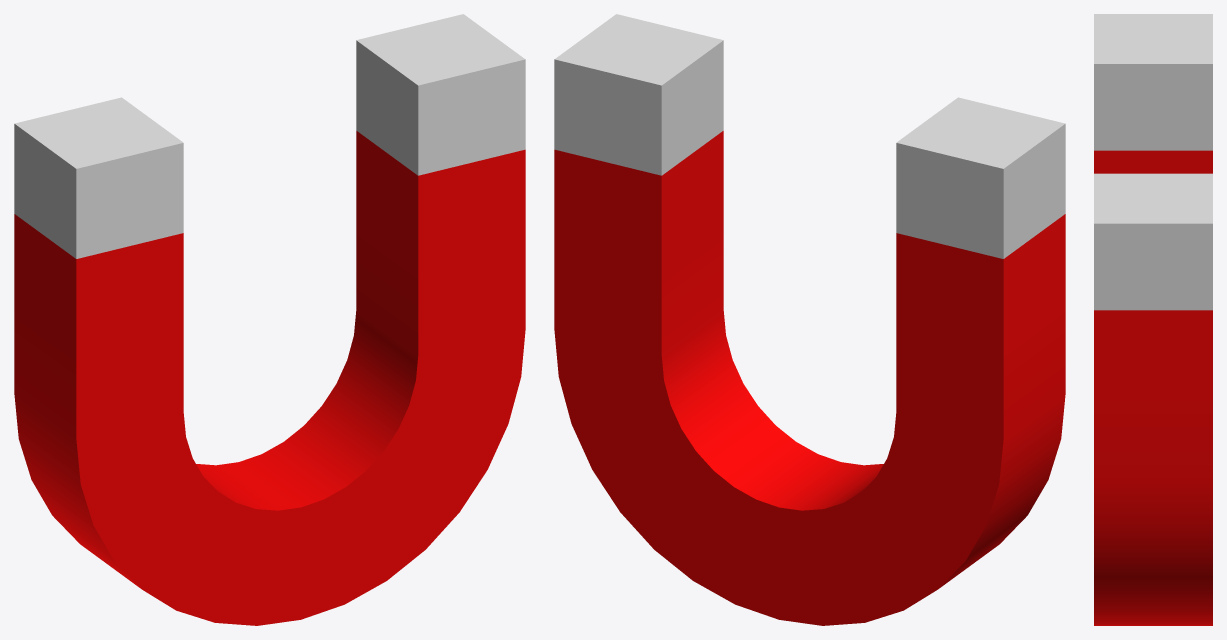
File: magnet.glb
3 renders of one model, left to right at view 1: azimuth 30°, elevation 25°; view 2: azimuth 150°, elevation 25°; view 3: azimuth 270°, elevation 25°, orthographic. The views are drawn at different scales.
Visible parts, largest first — view 1: Cube, Cube.001; view 2: Cube, Cube.001; view 3: Cube, Cube.001.
Part boxes in pixels (x1=…): Cube: x1=14, y1=131, x2=525, y2=625; Cube.001: x1=14, y1=14, x2=525, y2=258; Cube: x1=554, y1=131, x2=1065, y2=625; Cube.001: x1=554, y1=14, x2=1065, y2=258; Cube: x1=1094, y1=150, x2=1212, y2=625; Cube.001: x1=1094, y1=14, x2=1212, y2=310.
Bounding box in the file's own units: 209 × 225 × 50.
